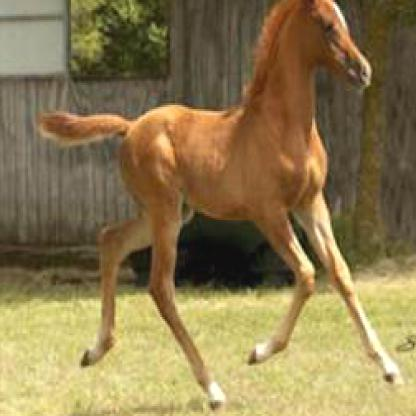horse: (33, 0, 403, 412)
